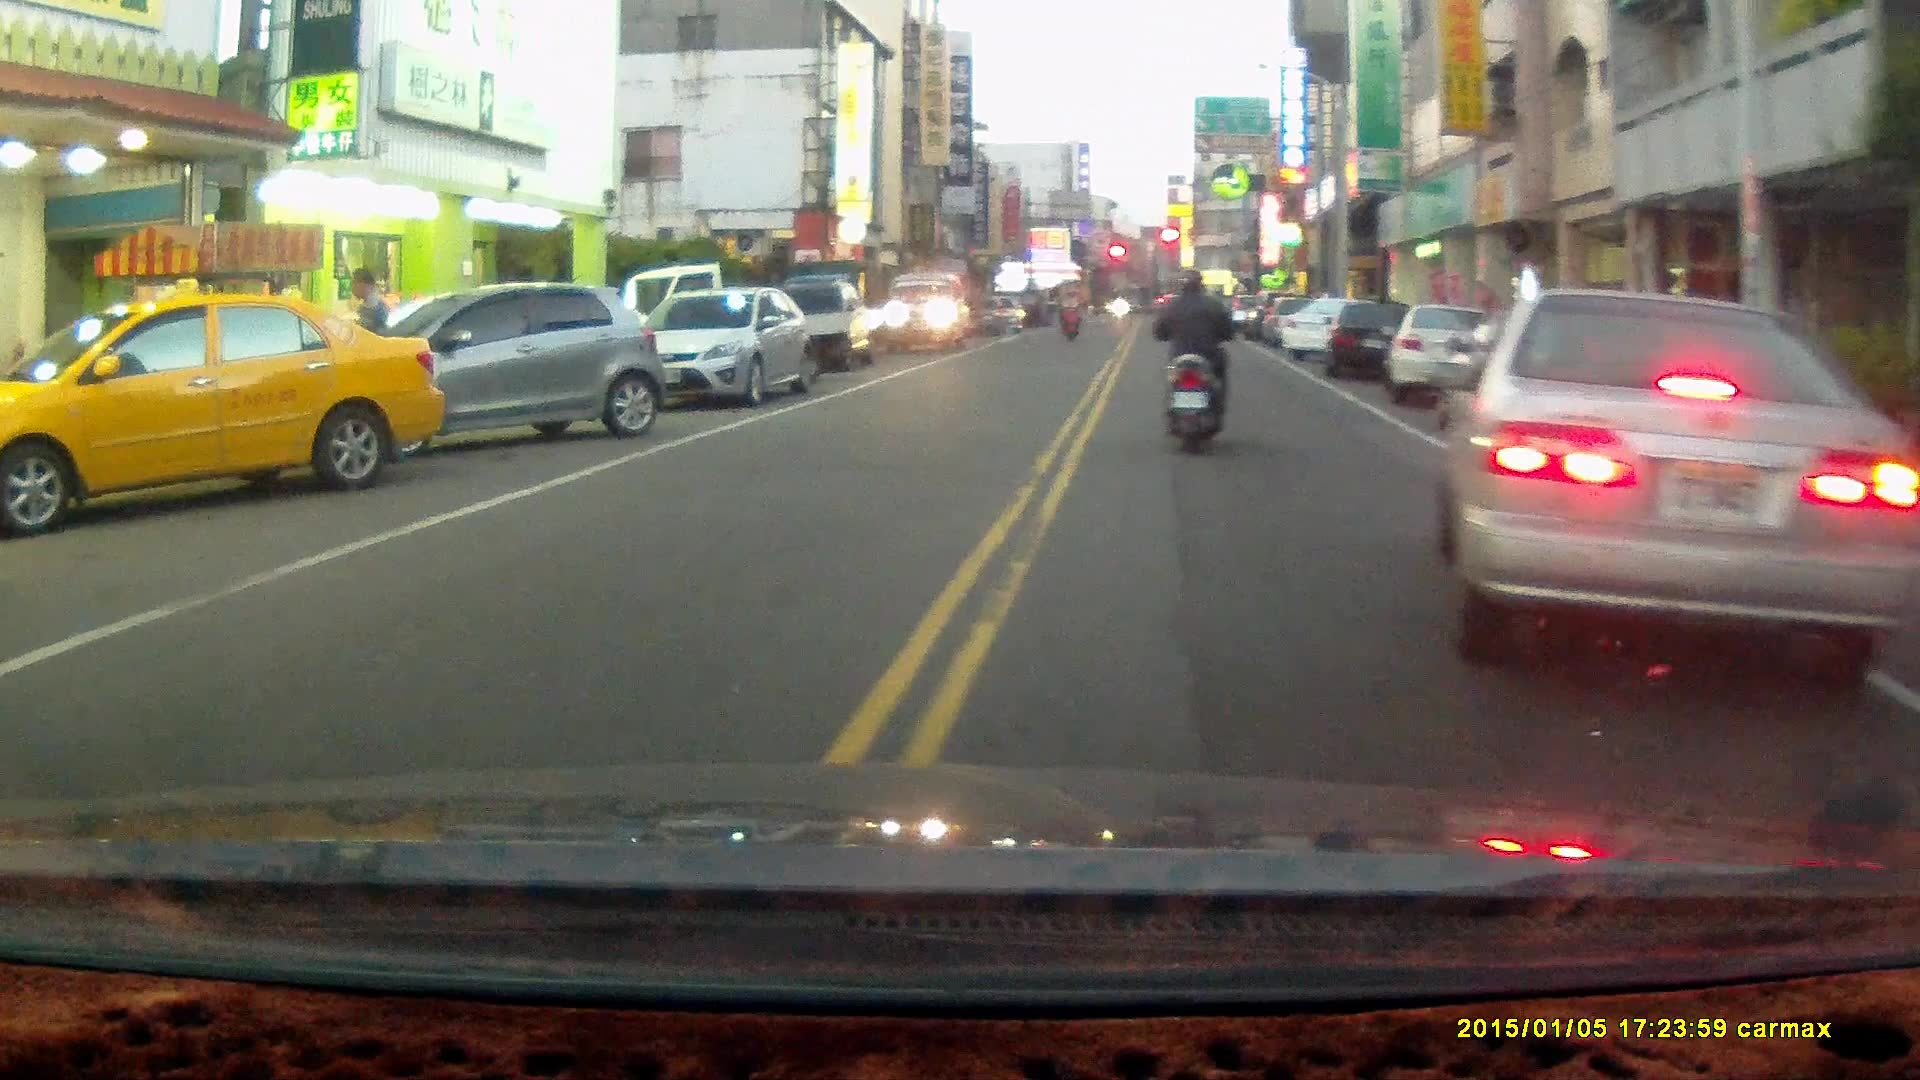pedestrian: (341, 271, 391, 441)
rider: (1144, 268, 1245, 460), (1055, 284, 1084, 343)
vehicle: (1444, 292, 1916, 680), (1, 293, 445, 540), (335, 281, 671, 446), (621, 288, 812, 409), (768, 278, 892, 375), (1392, 302, 1490, 407), (882, 277, 970, 349)
